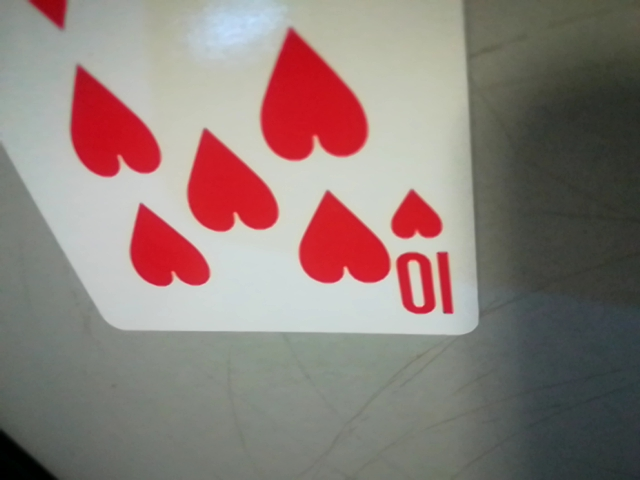hx 10: (384, 185, 472, 329)
